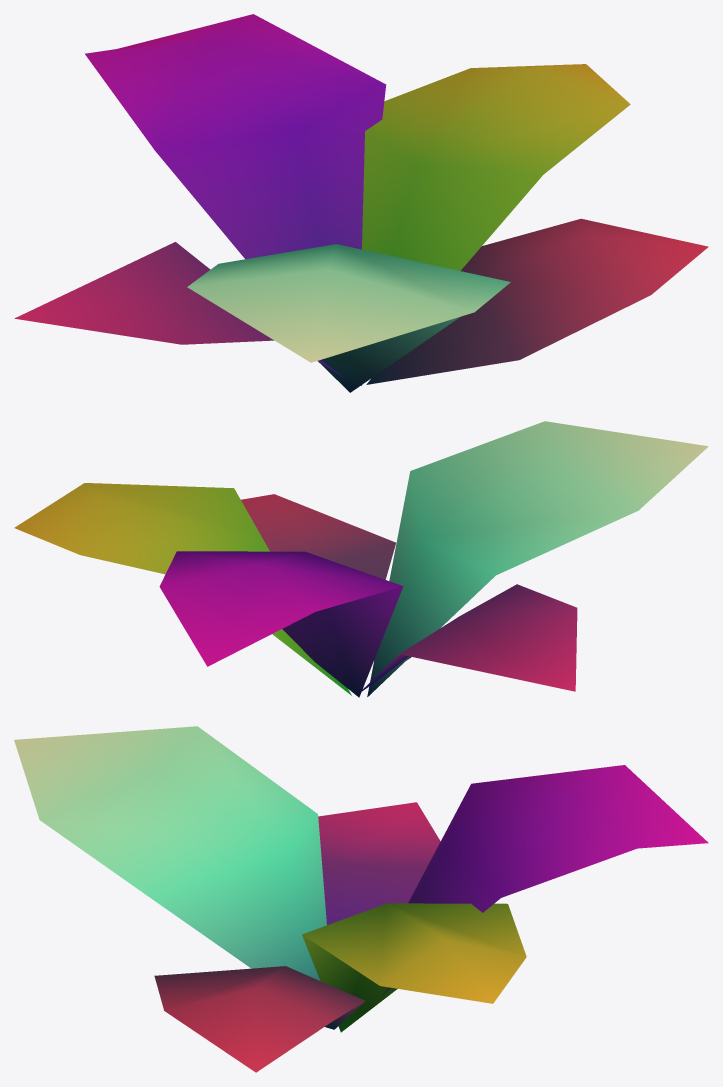
Rendered from Greater Burdock_LOD4_Var4_xh5pdgiqx.fbx.
3 renders of one model, top to bottom at view 1: azimuth 30°, elevation 25°; view 2: azimuth 150°, elevation 25°; view 3: azimuth 270°, elevation 25°, orthographic. The views are drawn at different scales.
Visible parts, largest first — view 1: _mr48_Var4_LOD4; view 2: _mr48_Var4_LOD4; view 3: _mr48_Var4_LOD4.
Boxes of the visible parts, x1,y1,x2,y2 form: _mr48_Var4_LOD4: [14, 14, 708, 392]; _mr48_Var4_LOD4: [14, 421, 708, 697]; _mr48_Var4_LOD4: [14, 726, 708, 1072].
Size of the model in its own units: 40.28 by 15.99 by 44.35.
